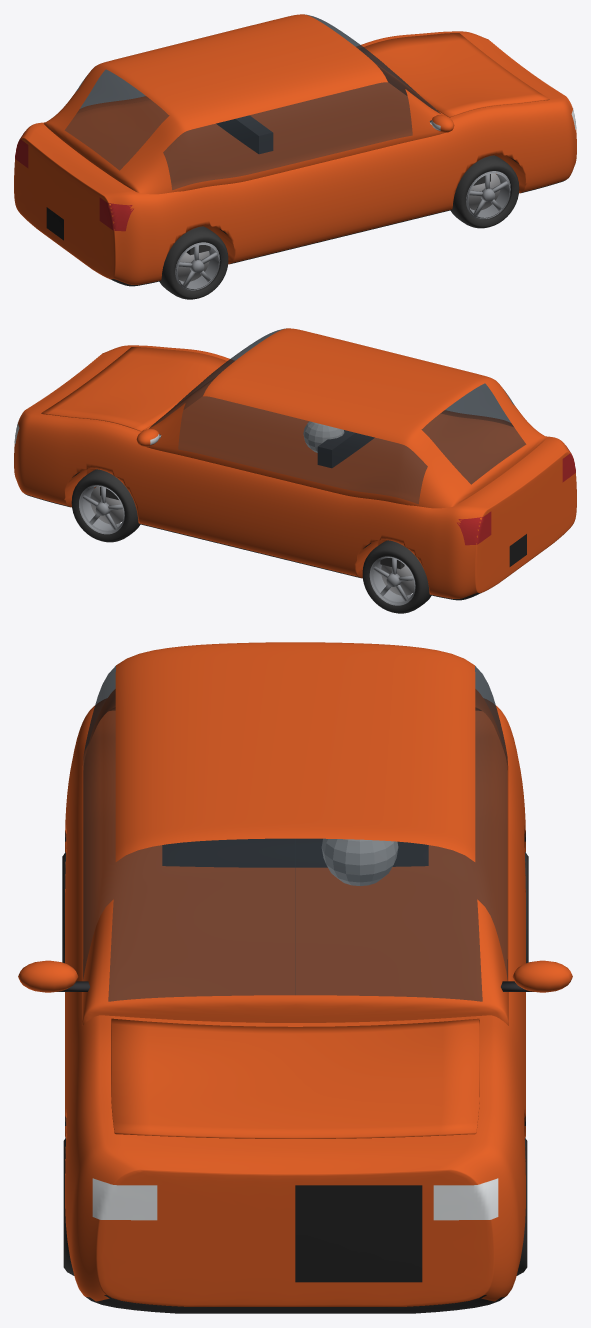
The model's file is derby_tanaga_comet.glb.
3 views of the same model, one above another, from view 1: azimuth 30°, elevation 25°; view 2: azimuth 150°, elevation 25°; view 3: azimuth 270°, elevation 25° (orthographic). The views are drawn at different scales.
Visible parts, largest first — view 1: body, cabin, bumper_rear, bonnet, wheel_fr_spin, wheel_rr_spin, bumper_front, interior; view 2: body, cabin, bumper_rear, bonnet, wheel_fl_spin, wheel_rl_spin, bumper_front, interior; view 3: cabin, body, bumper_front, bonnet, interior, mirror_l, mirror_r.
Boxes of the visible parts, box(x1,y1,x2,y2) form: body: box(36, 31, 558, 285); cabin: box(44, 14, 443, 194); bumper_rear: box(14, 123, 141, 286); bonnet: box(359, 33, 549, 117); wheel_fr_spin: box(450, 155, 519, 228); wheel_rr_spin: box(159, 226, 228, 299); bumper_front: box(453, 31, 576, 183); interior: box(216, 115, 273, 153); body: box(32, 345, 554, 599); cabin: box(147, 328, 546, 508); bumper_rear: box(449, 437, 576, 600); bonnet: box(41, 347, 231, 431); wheel_fl_spin: box(71, 469, 140, 542); wheel_rl_spin: box(362, 540, 431, 613); bumper_front: box(14, 345, 137, 497); interior: box(303, 421, 374, 467); cabin: box(82, 642, 508, 1025); body: box(65, 704, 525, 1261); bumper_front: box(68, 1130, 522, 1313); bonnet: box(111, 1018, 479, 1138); interior: box(162, 838, 428, 885); mirror_l: box(501, 960, 572, 992); mirror_r: box(18, 960, 89, 992).
Bounding box in the file's own units: 3.91 × 1.4 × 2.02.
